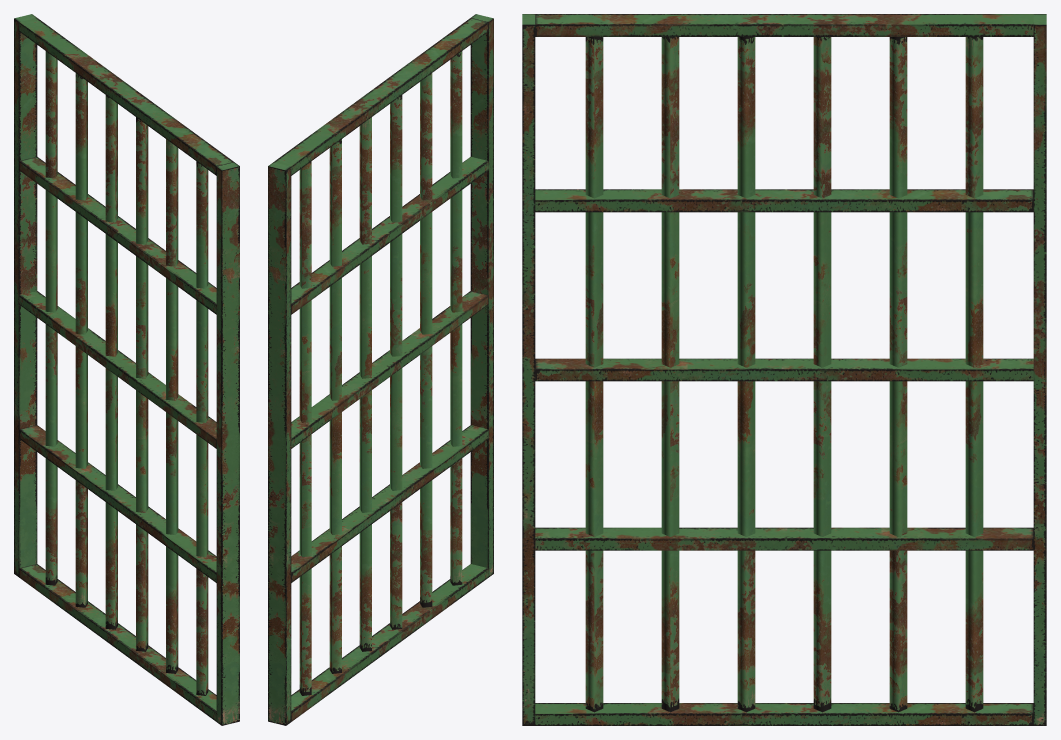
The model's file is metalBars01_2m.FBX.
3 views of the same model, side by side, from view 1: azimuth 30°, elevation 25°; view 2: azimuth 150°, elevation 25°; view 3: azimuth 270°, elevation 25° (orthographic). The views are drawn at different scales.
Parts seen in each view (by area): view 1: metalBars01_2m; view 2: metalBars01_2m; view 3: metalBars01_2m.
Boxes of the visible parts, x1,y1,x2,y2 form: metalBars01_2m: (14, 14, 239, 725); metalBars01_2m: (268, 14, 493, 725); metalBars01_2m: (522, 14, 1046, 725).
Bounding box in the file's own units: 10 × 295 × 200.
